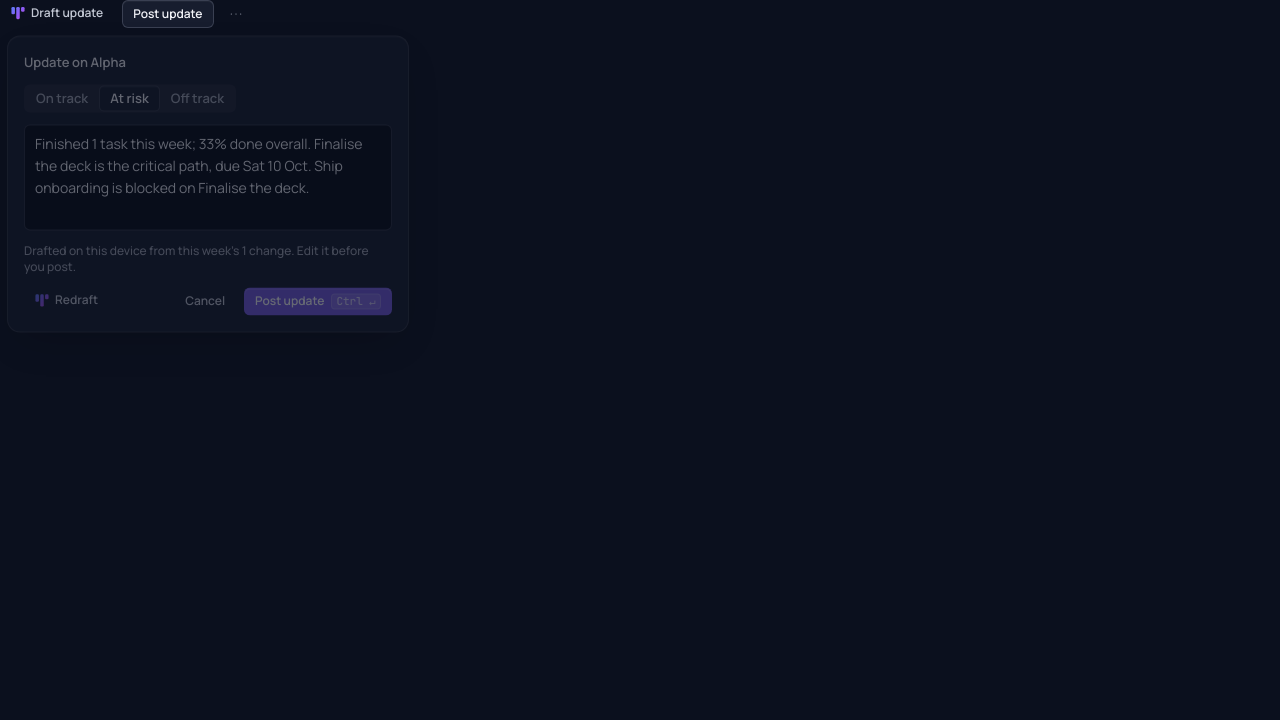
ProjectActions — posting an update › falls back to the on-device draft when Kanbo can't answer (limit), and says why without saying AI
The width and height of the screenshot is (1280, 720).
Step 1. Click the button "Draft update" → x=57, y=14, box [0,0,114,28]
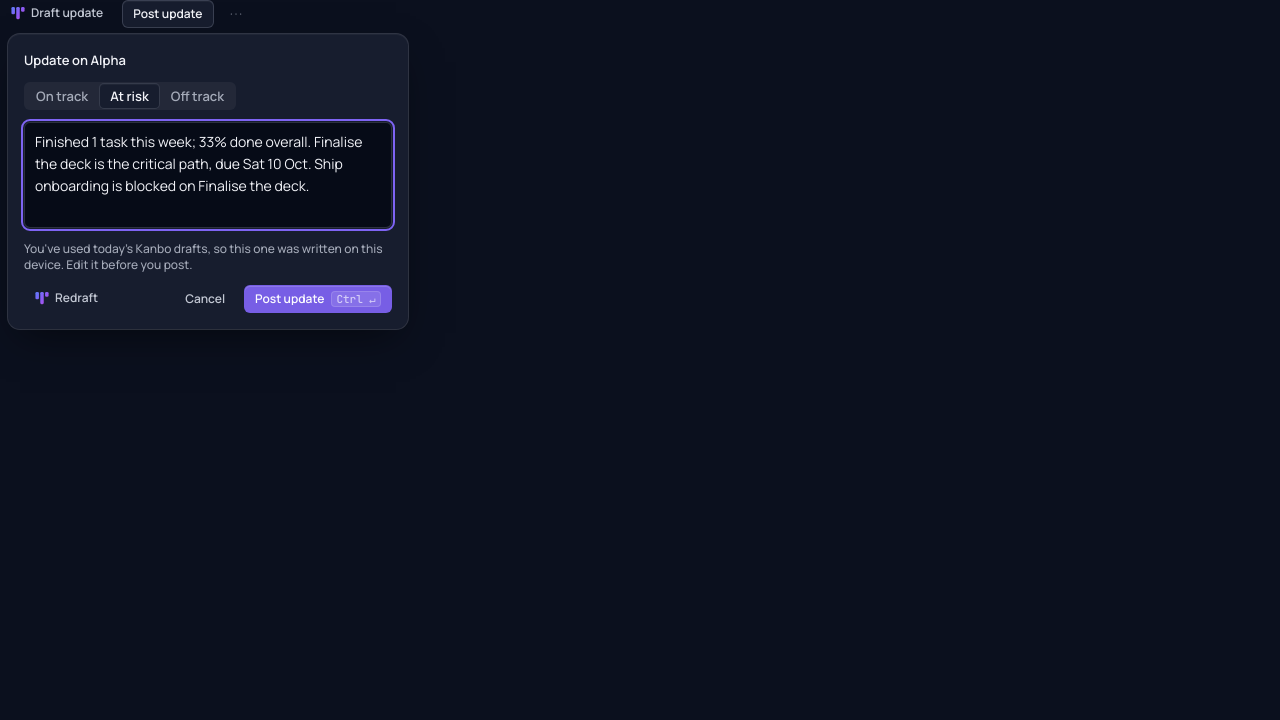
Check: the text "You've used today's Kanbo drafts, so this one was written on this device." is shown, box [24,240,383,273]
